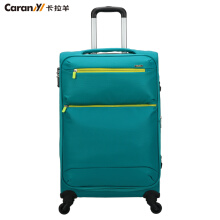luggage: (54, 6, 163, 215)
